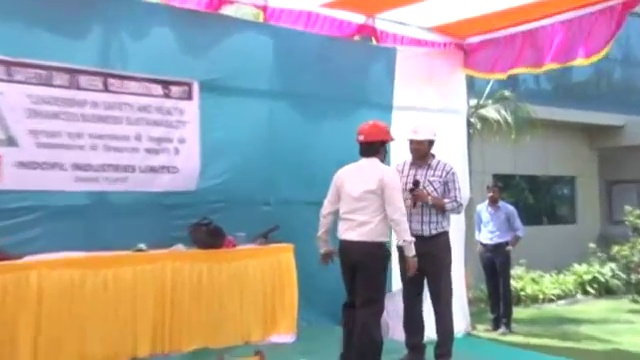helmet: (354, 117, 398, 145), (407, 123, 437, 144)
helmet_off: (483, 177, 504, 204)
helmet_on: (352, 117, 395, 165), (405, 124, 438, 167)
person: (316, 117, 416, 360), (398, 122, 463, 360), (473, 178, 524, 337)
